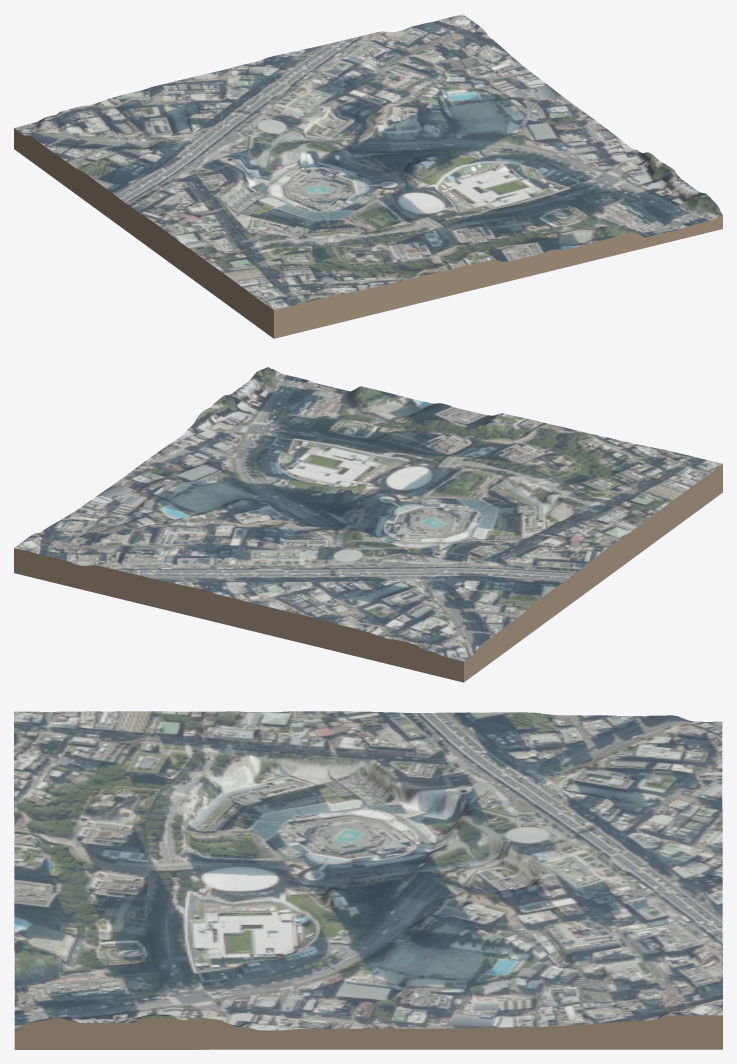
File: terrain.glb
3 renders of one model, top to bottom at view 1: azimuth 30°, elevation 25°; view 2: azimuth 150°, elevation 25°; view 3: azimuth 270°, elevation 25°, orthographic. The views are drawn at different scales.
Bounding box in the file's own units: 513 × 32.35 × 513.
Materials: 2 (1 with a texture image).
